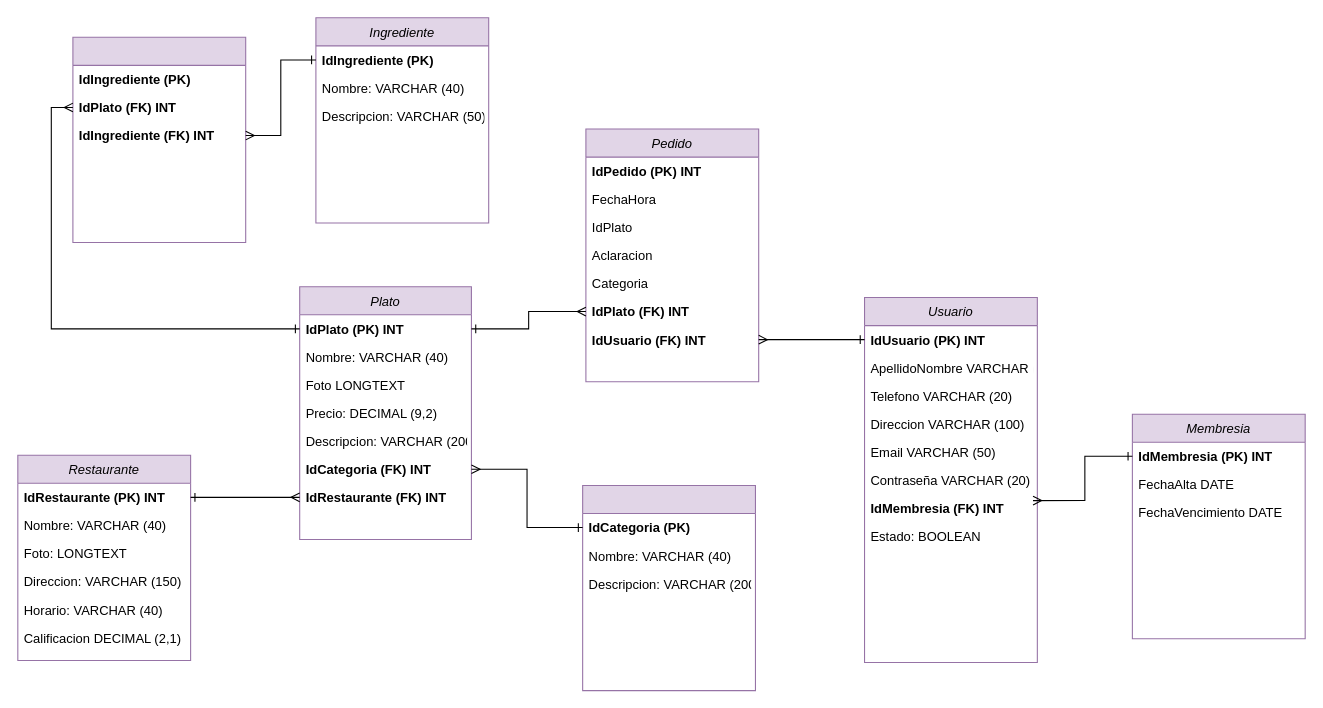
Some shapes in this 1323 by 708 pixel diagram are drawn without their labels. The shapes that lost their labels are listed below. From the top down, each one's box as (x1, y1, x2, y2) in pixels, then its label:
(72, 36, 246, 242): PlatoIngrediente
(582, 484, 755, 691): CategoriaPlato
